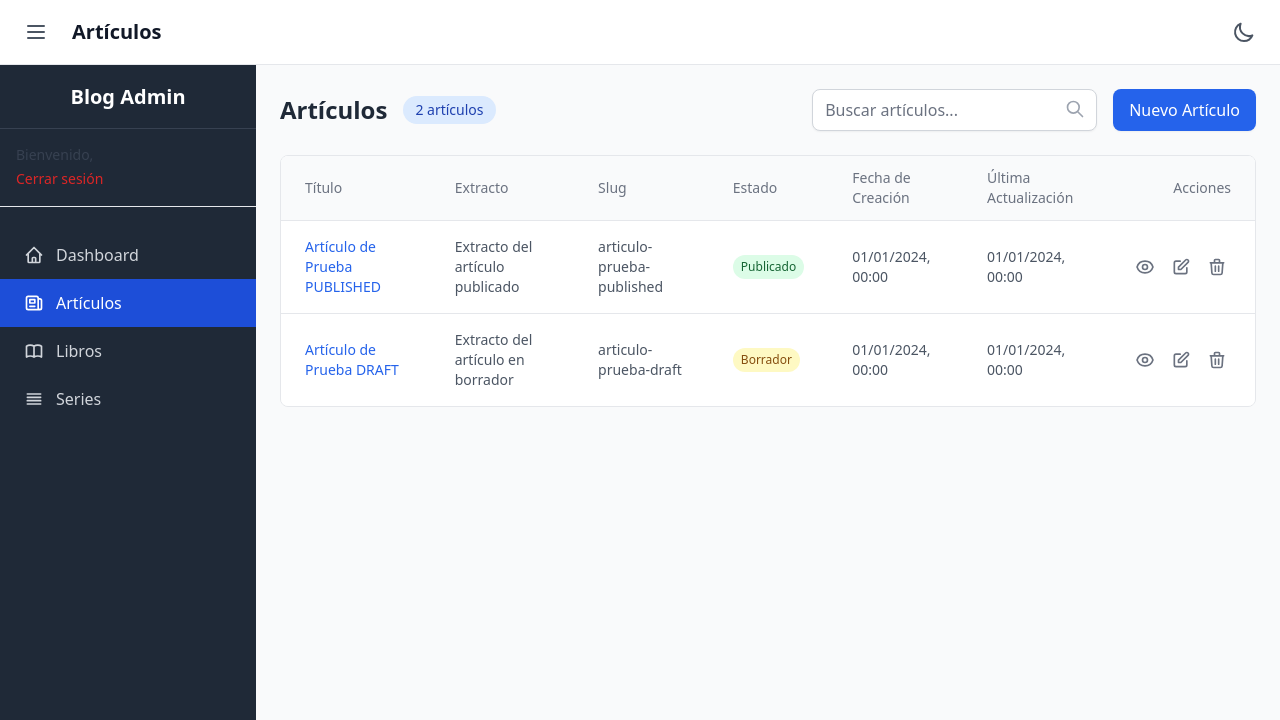
Gestión de Artículos › Debería permitir eliminar un artículo
The width and height of the screenshot is (1280, 720).
# Hacemos clic en el botón de eliminar del primer artículo
Click the button with test id "delete-article-button" in the row of "Artículo de Prueba PUBLISHED".
click(1217, 267)  # box [1203,253,1231,281]
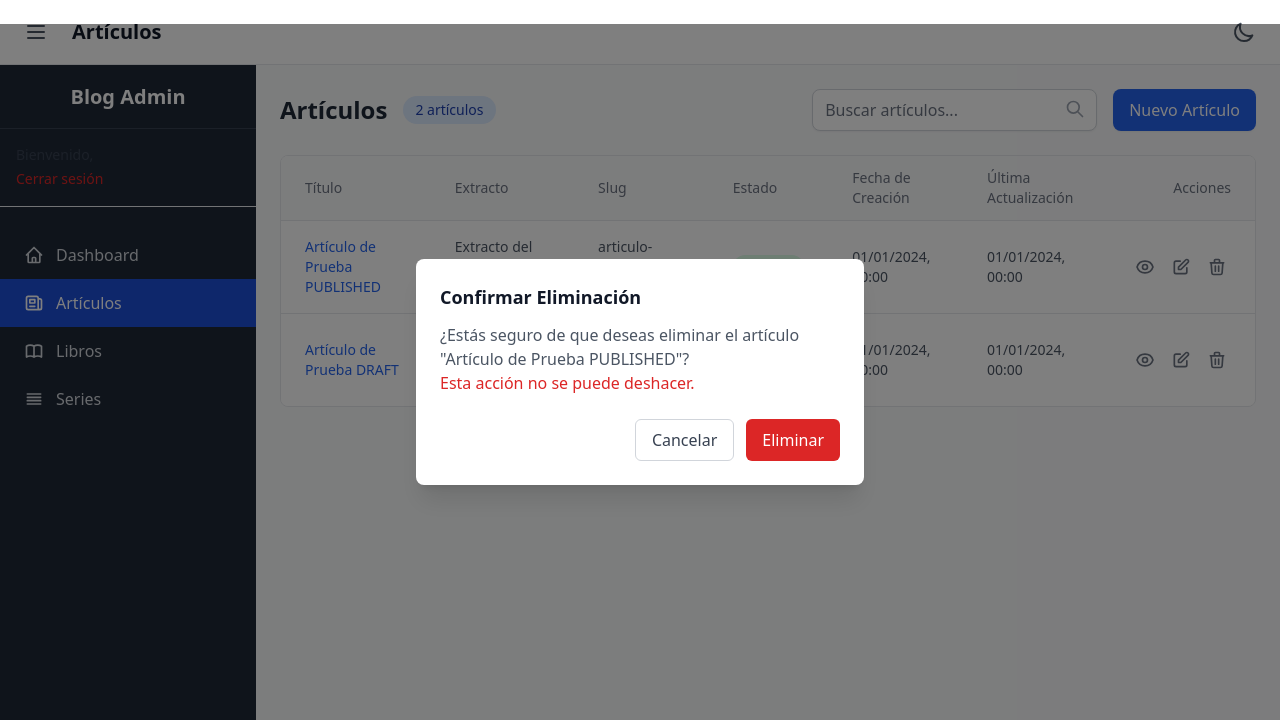
Now the element with class "modal-backdrop" is shown
Click the button with class "confirm-button".
click(793, 440)  # box [746,419,840,461]
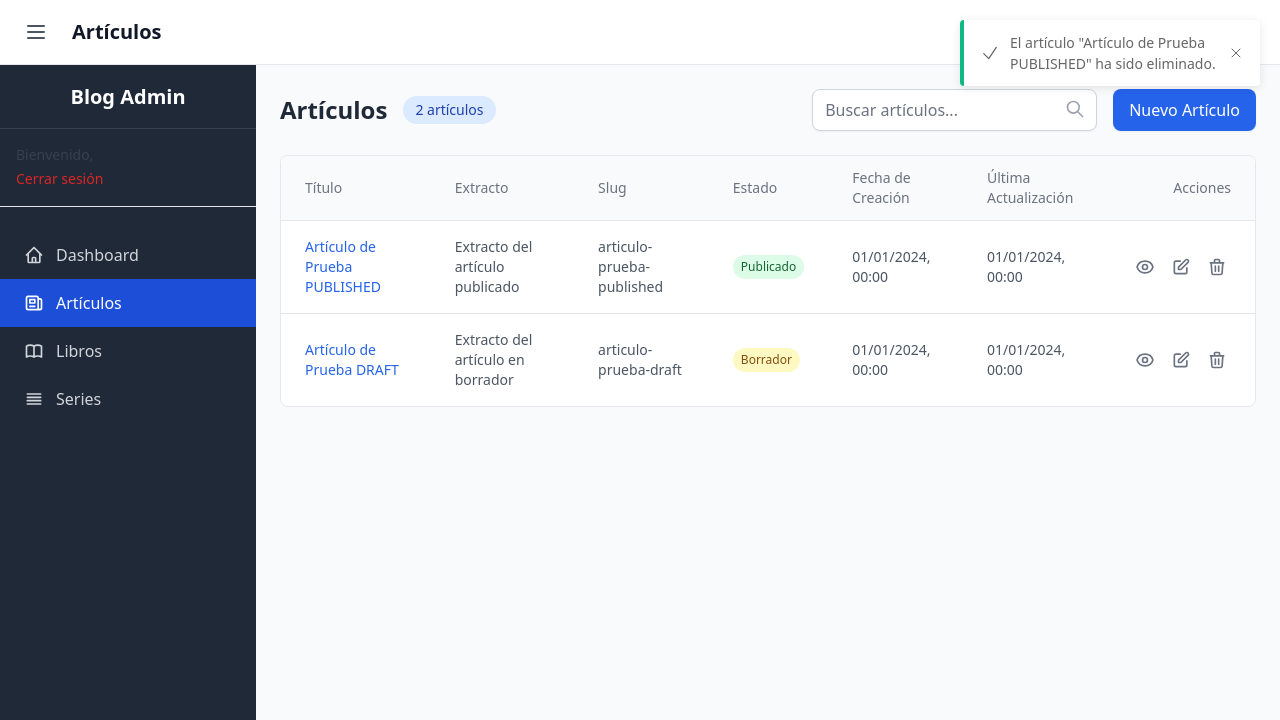
Now the element with test id "notification-success" is shown, box [960,20,1260,86]
